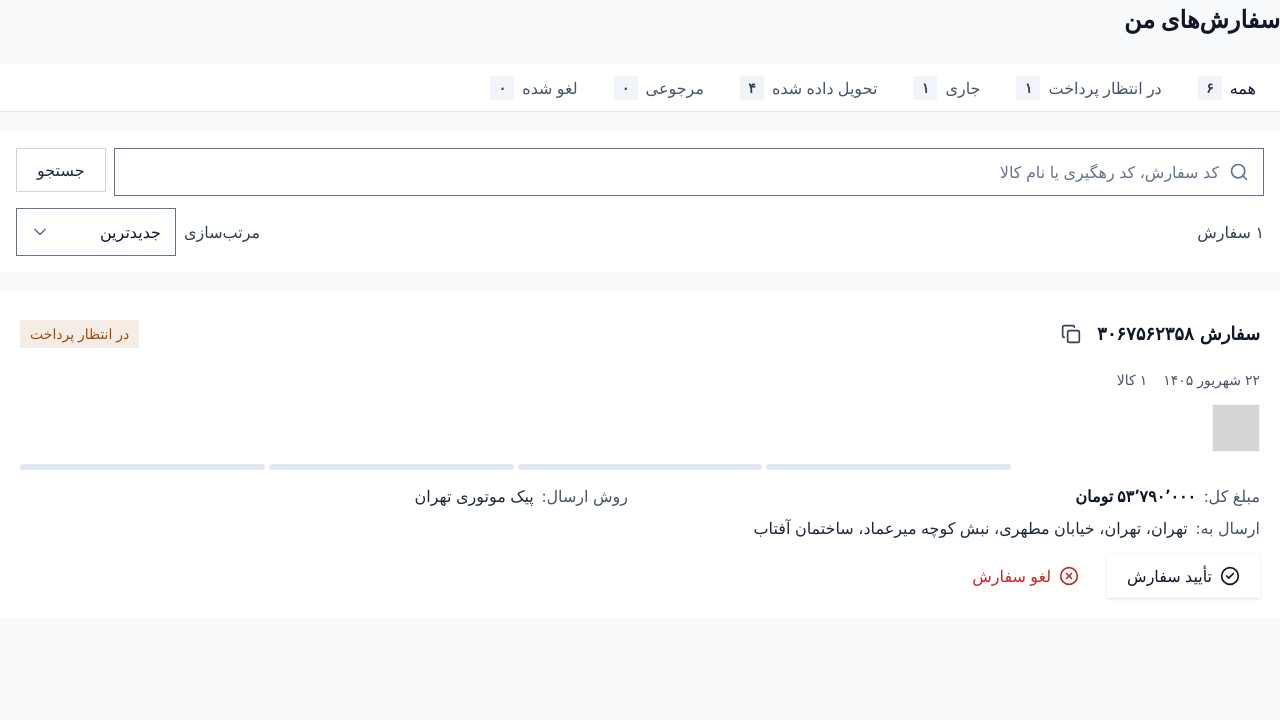
Test: a confirmation from the pay sheet over the list, a bottom sheet (phones) › the order left the list (its tab no longer holds it): the focus to the page’s heading
Click the button "تأیید سفارش": (1184, 576) [1107,554,1260,598]
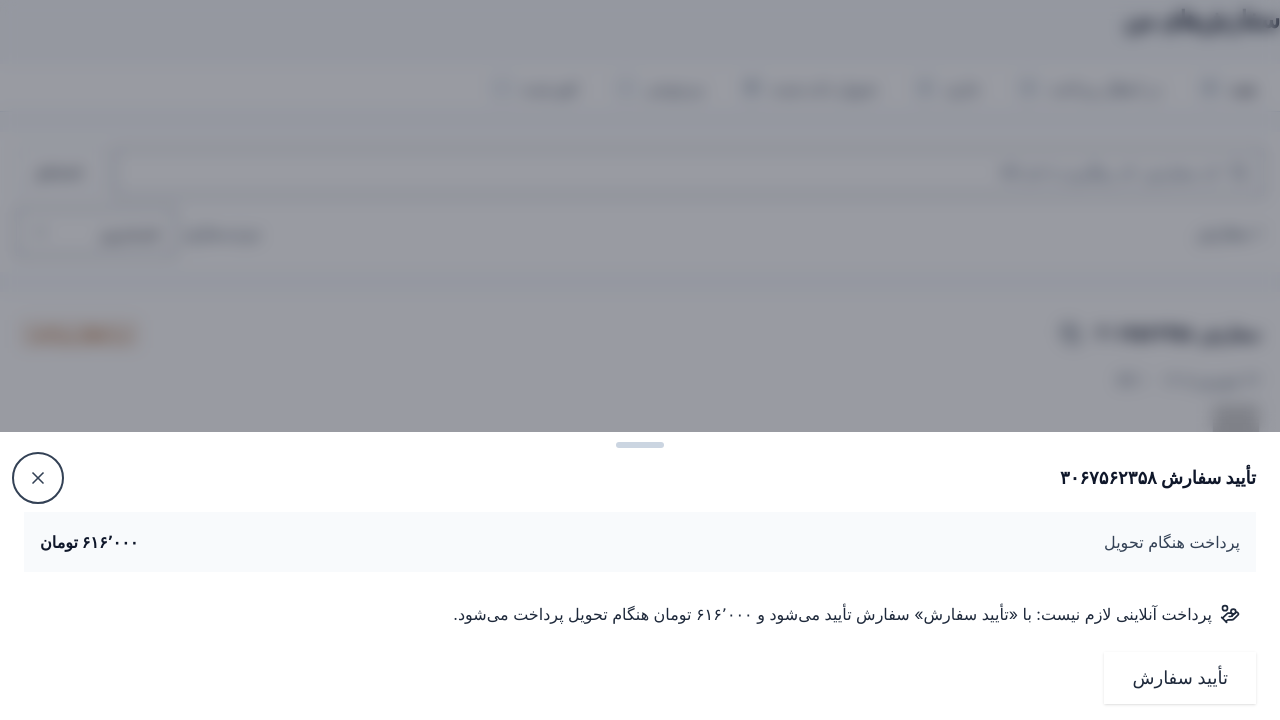
Click the button "تأیید سفارش": (1180, 678) [1104,652,1256,704]
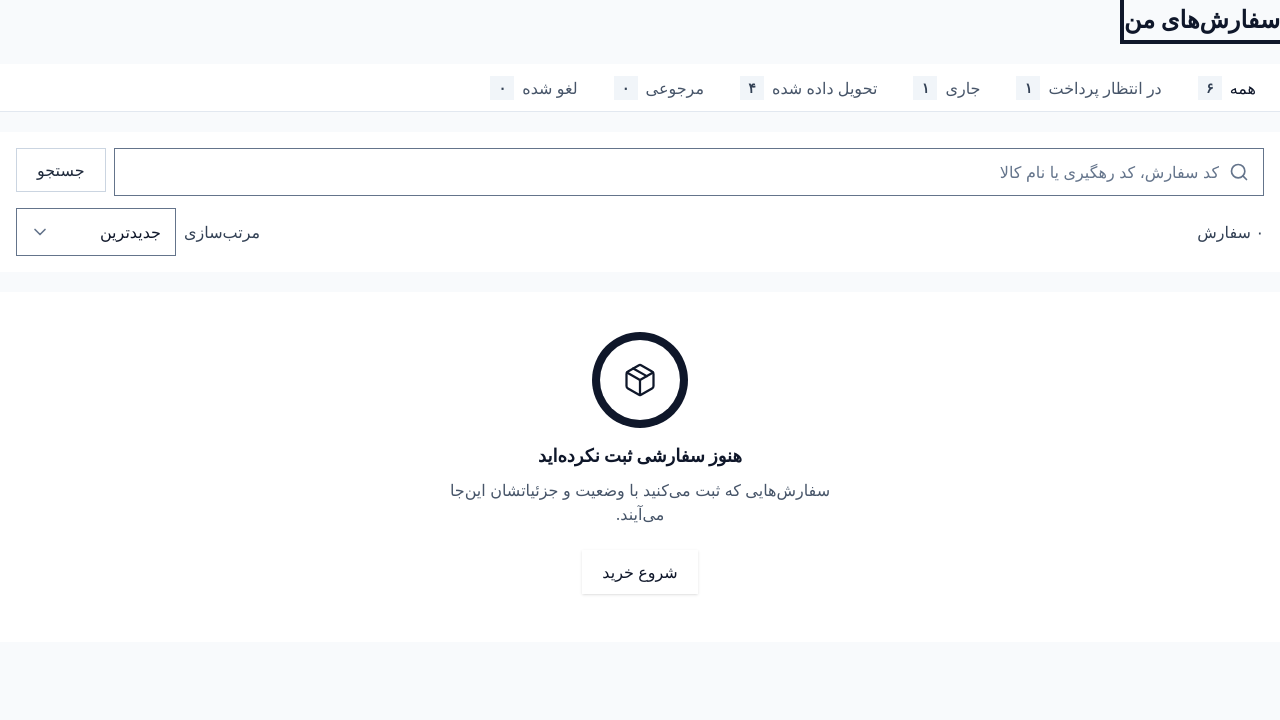
Expected: the dialog is gone
Expected: the link "۳۰۶۷۵۶۲۳۵۸" is gone
